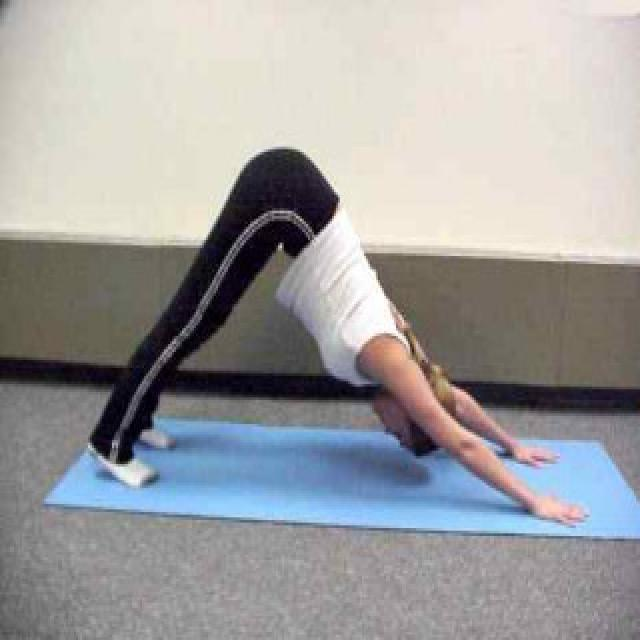yoga-pose downward: (87, 143, 588, 532)
